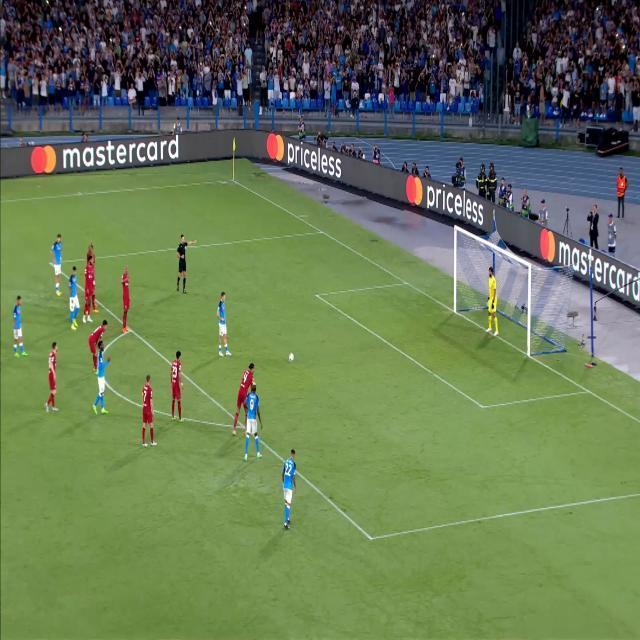ball: (287, 350, 295, 362)
goalkeeper: (484, 261, 502, 338)
player: (277, 446, 299, 529), (235, 353, 255, 435), (42, 339, 64, 412), (244, 379, 263, 462), (140, 373, 160, 447), (167, 347, 185, 427), (93, 342, 111, 415), (66, 263, 84, 334), (214, 289, 232, 357), (83, 240, 99, 316), (9, 293, 27, 357), (49, 229, 65, 298), (118, 266, 134, 331), (81, 259, 95, 322), (89, 319, 108, 364)
referee: (172, 234, 196, 297)
